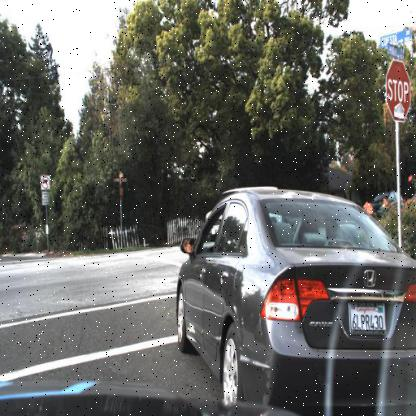car: (170, 184, 416, 414), (365, 176, 405, 225)
